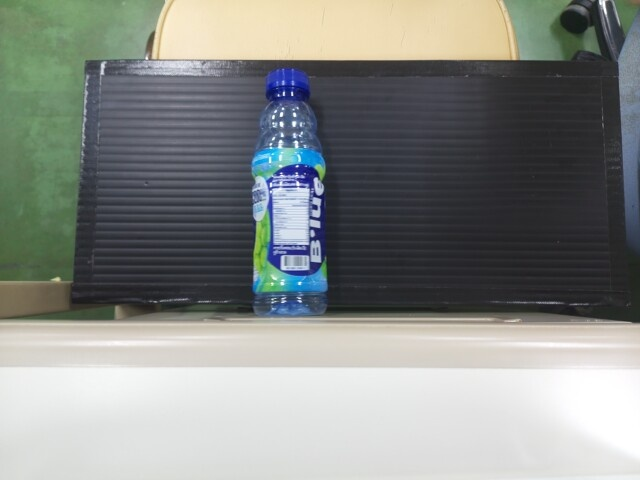plastic_bottle: (247, 56, 329, 313)
